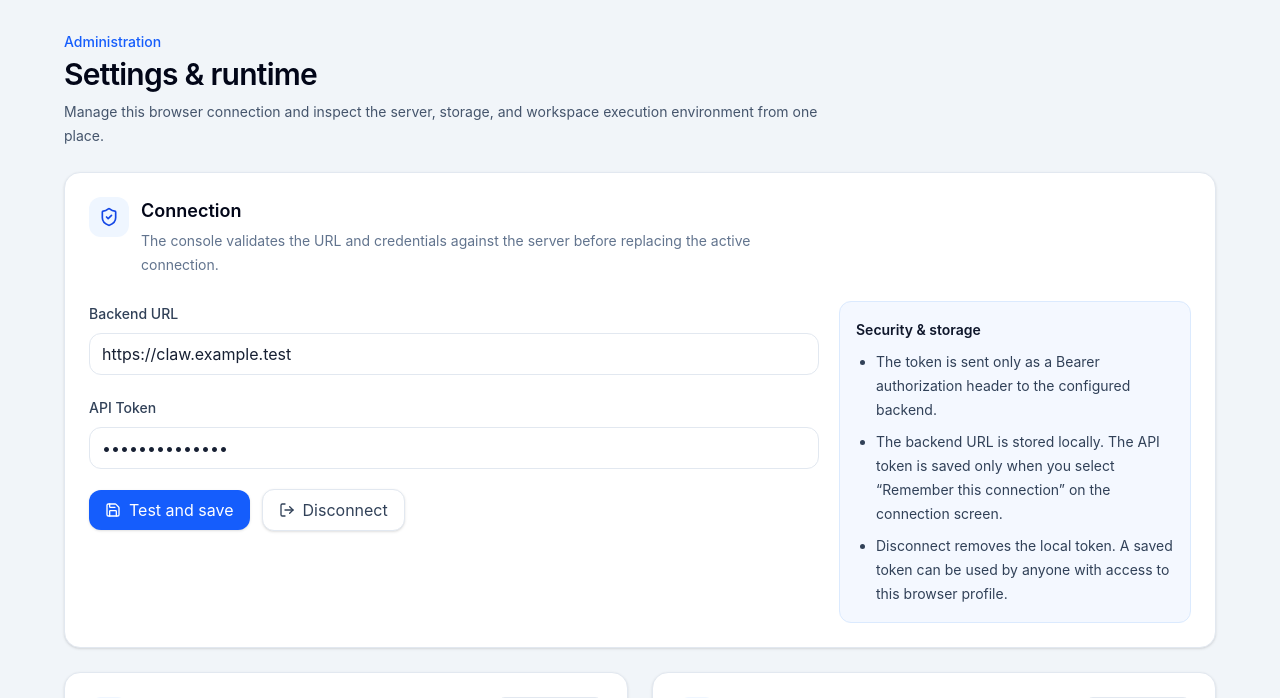
Test: SettingsPage runtime and connection diagnostics › validates connection drafts before saving them
Clear the field labelled "Backend URL". click: (454, 354)
box: [89,333,819,375]
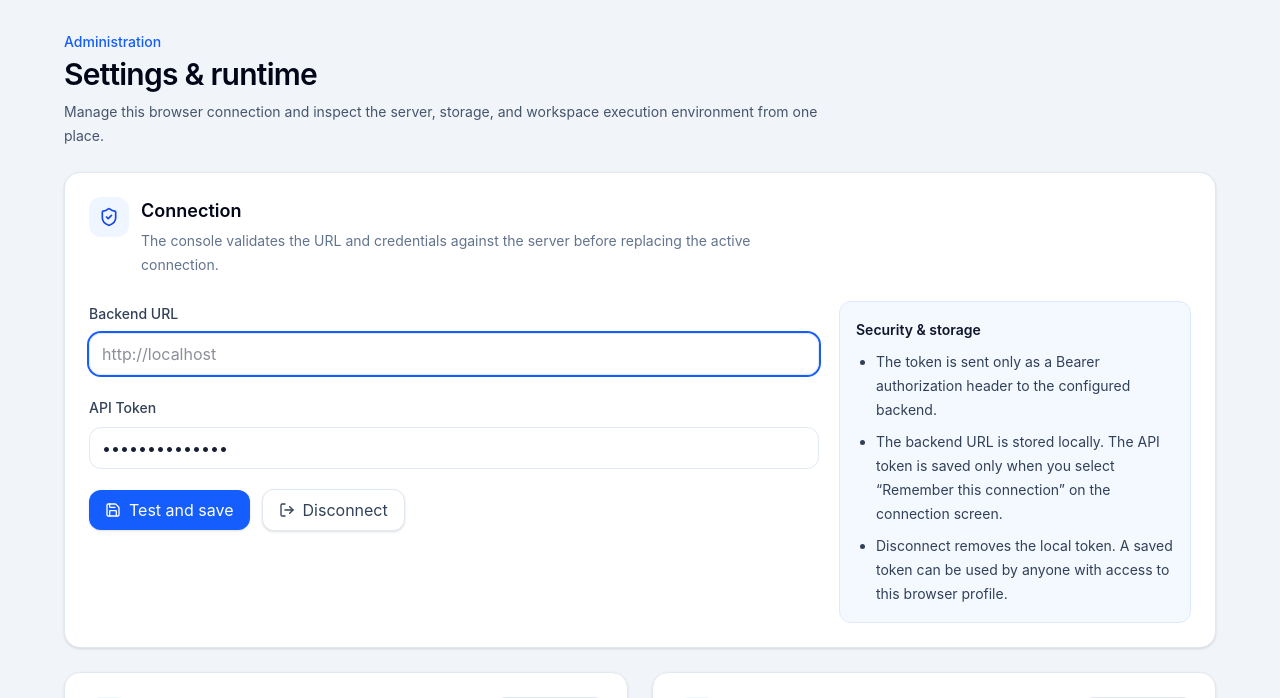
Click the button "Test and save". click: (169, 510)
box: [89,490,250,530]
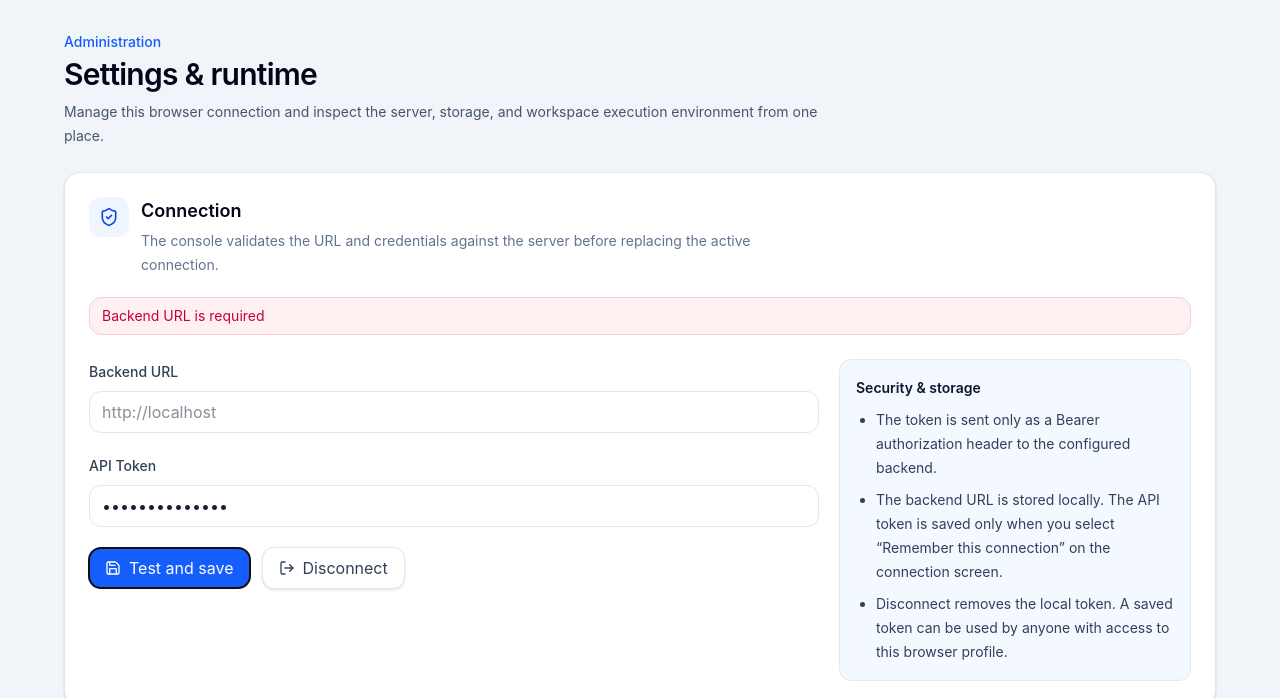
Expected: the message reads "Backend URL is required", [102,307,264,324]
